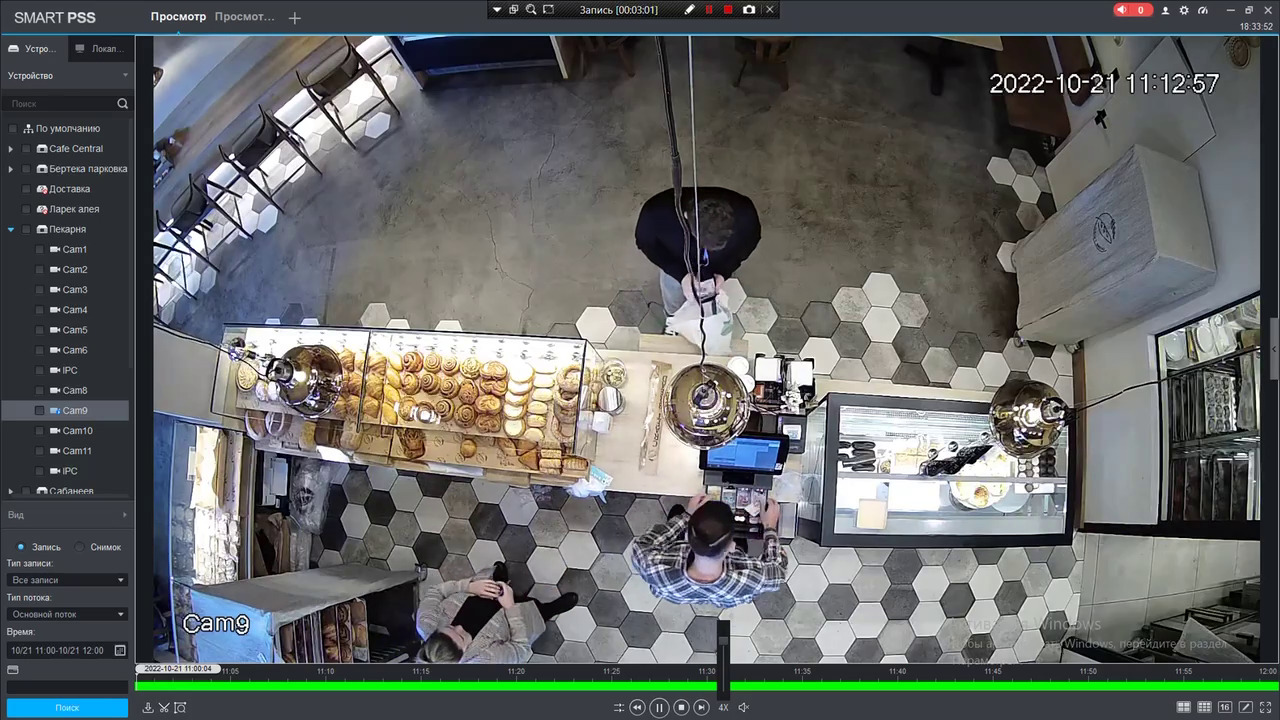barcounter: (169, 331, 1094, 523)
openedcash: (695, 425, 795, 536)
pack: (639, 356, 668, 477)
person: (636, 183, 758, 309)
